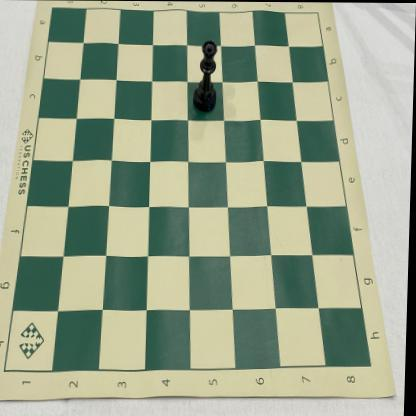black-queen: (192, 39, 219, 114)
